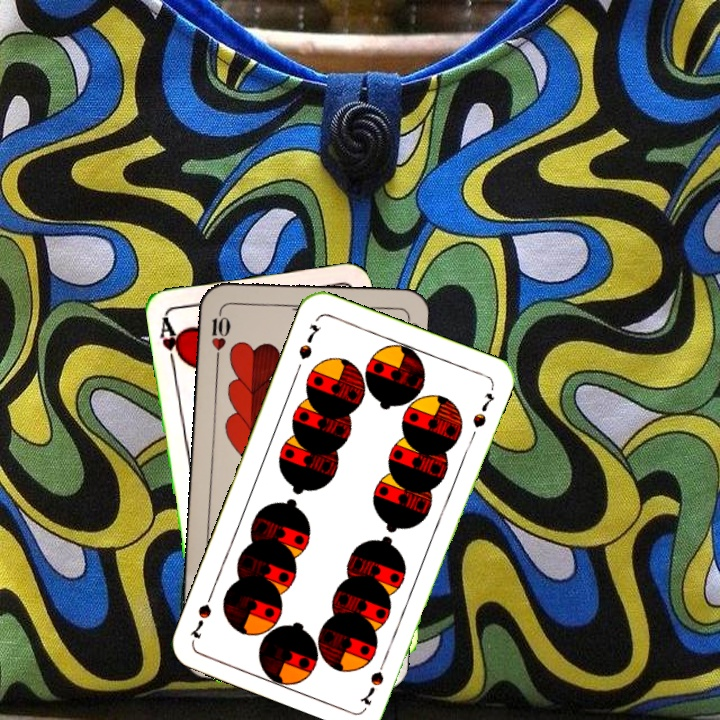H10: (207, 304, 233, 363)
HA: (155, 313, 187, 372)
S7: (356, 651, 390, 708), (294, 320, 324, 362)
